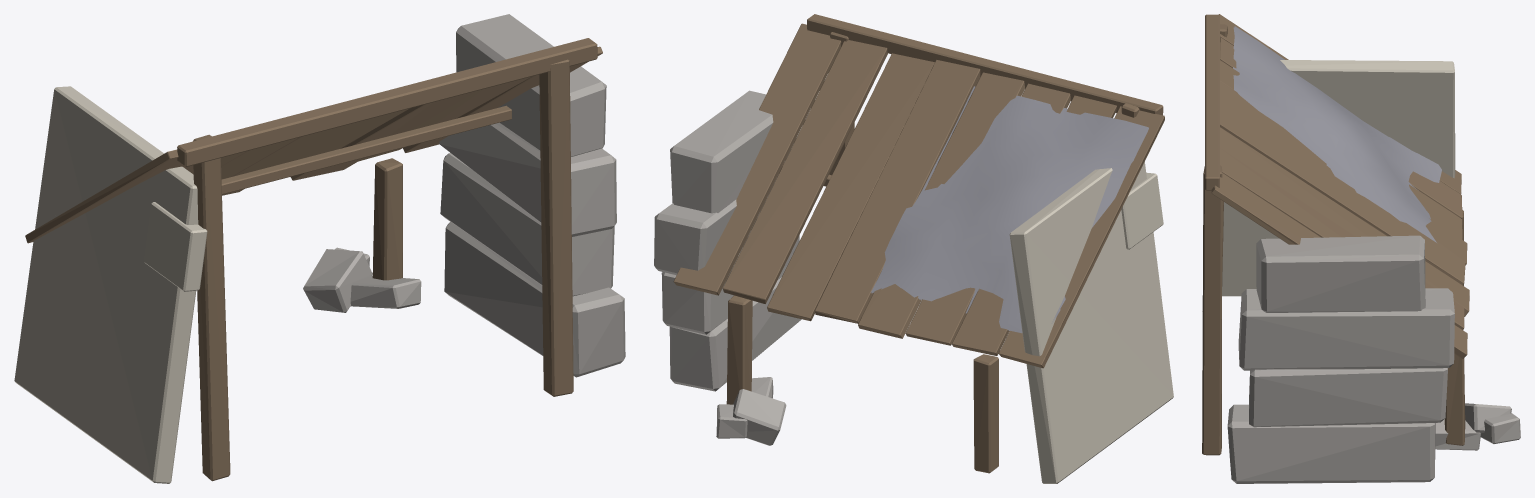
File: shelter.glb
The picture shows the model from 3 angles, left to right: view 1: azimuth 30°, elevation 25°; view 2: azimuth 150°, elevation 25°; view 3: azimuth 270°, elevation 25°; orthographic projection. The views are drawn at different scales.
Parts seen in each view (by area): view 1: plaster, wood, stone; view 2: wood, plaster, cloth, stone; view 3: stone, wood, cloth, plaster.
Boxes of the visible parts, <box> form: plaster: <box>14,86,207,483</box>; wood: <box>25,38,602,481</box>; stone: <box>303,14,625,377</box>; wood: <box>673,14,1164,473</box>; plaster: <box>1009,161,1173,483</box>; cloth: <box>870,86,1148,333</box>; stone: <box>654,90,801,445</box>; stone: <box>1227,235,1520,483</box>; wood: <box>1202,14,1469,455</box>; cloth: <box>1233,26,1441,242</box>; plaster: <box>1222,60,1455,296</box>.
Bounding box in the file's own units: 3.39 × 2.42 × 2.3.
